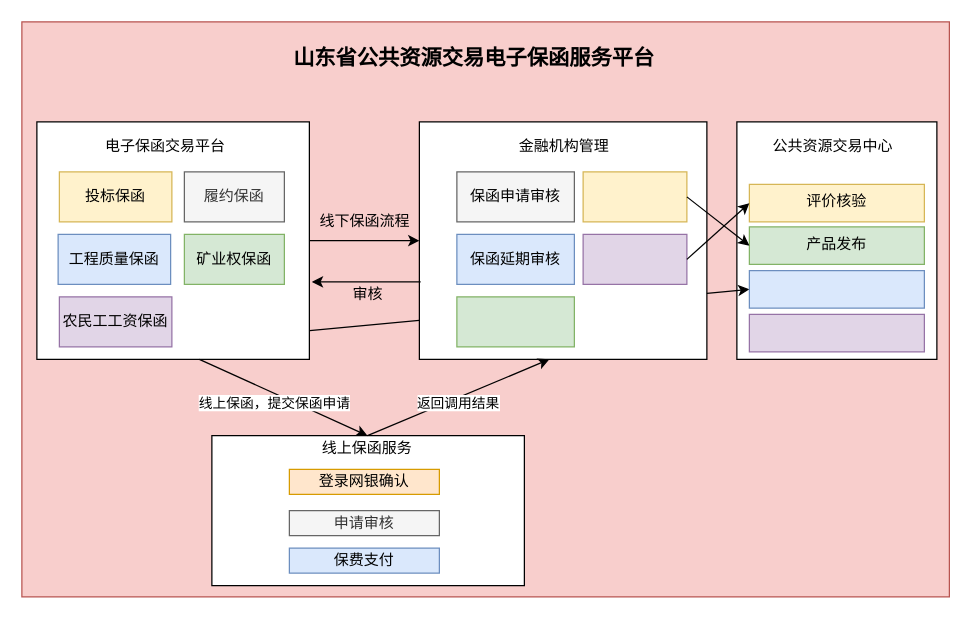
The diagram is 971 pixels wide and 619 high, and some of its shapes have lost their labels. The shapes that lost their labels are listed below. From the top down, each one's box as (x1, y1, x2, y2) in pixels, then its label:
(582, 171, 687, 222): 金融产品管理
(582, 233, 687, 284): 保函企业评价
(748, 269, 924, 308): 业绩统计/业务统计
(456, 296, 574, 347): 保函解除审核
(748, 313, 924, 352): 农民工工资受益人维护
